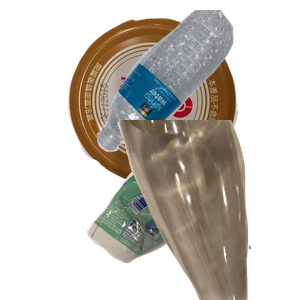glass: (115, 120, 300, 300)
metal: (66, 15, 297, 193)
plastic: (94, 10, 300, 154)
trash: (84, 133, 292, 300)
